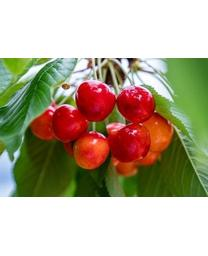cherry: (109, 121, 151, 163), (75, 80, 116, 121), (135, 114, 174, 153), (53, 105, 91, 144), (117, 85, 155, 123), (74, 132, 109, 170), (30, 109, 61, 142)
